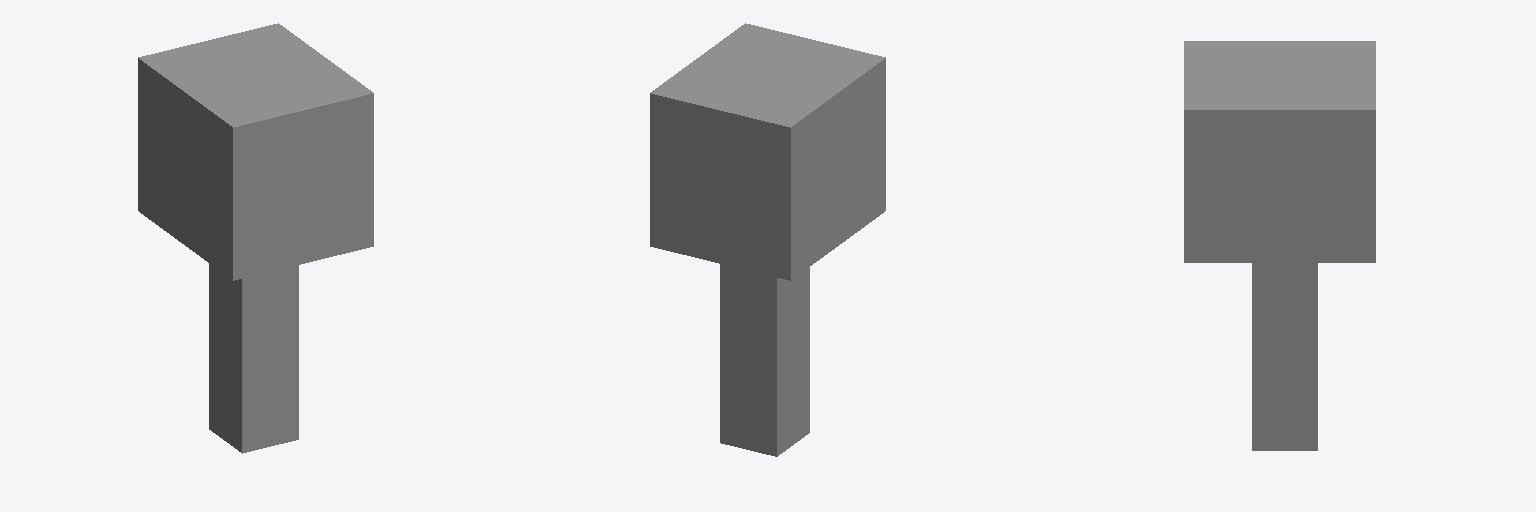
The model's file is tree.obj.
3 views of the same model, side by side, from view 1: azimuth 30°, elevation 25°; view 2: azimuth 150°, elevation 25°; view 3: azimuth 270°, elevation 25° (orthographic).
Size of the model in its own units: 4.96 by 12.15 by 5.83.